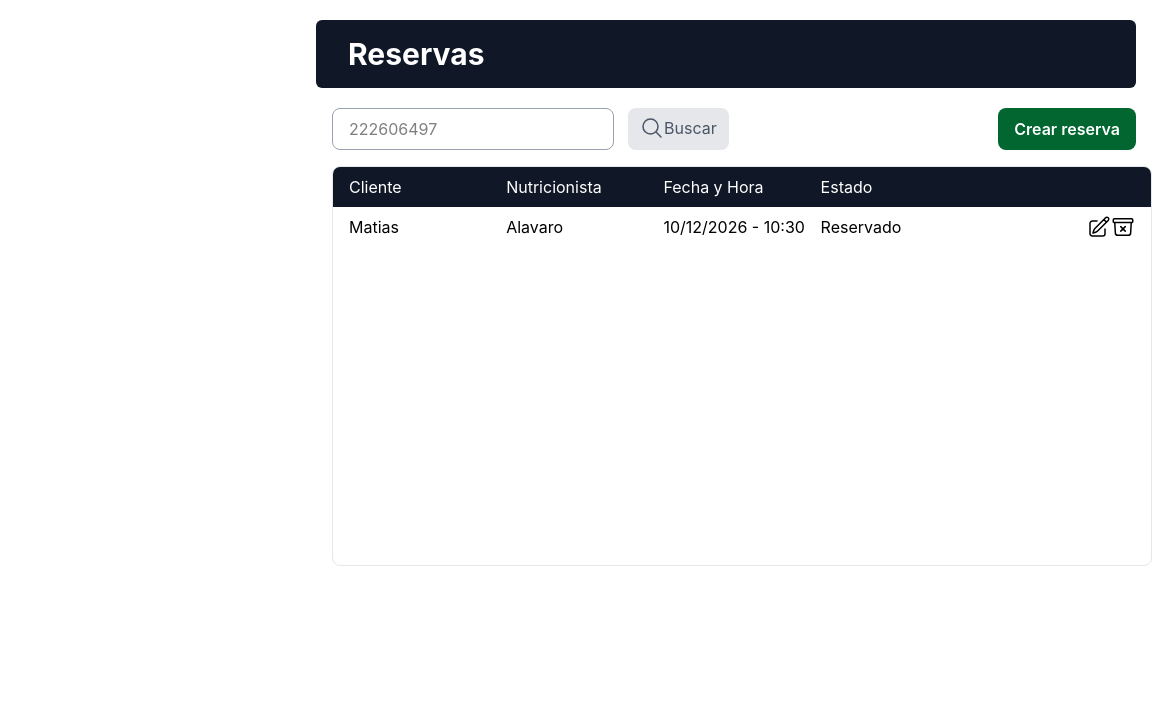
it: SecretarioReserva › abre el modal de FormularioCrearReservaSecretario al presionar "Crear reserva"
Click the button "Crear reserva" at (1067, 129), box [998,108,1136,150]
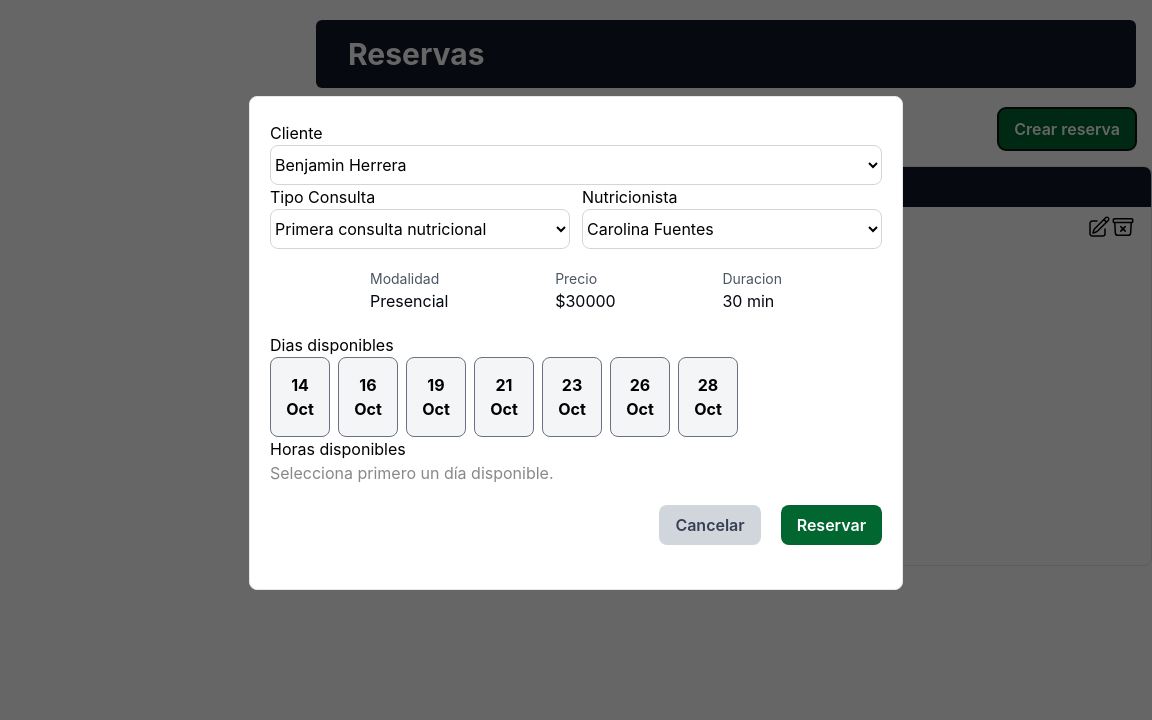
Expected: the dropdown labelled "Cliente" is shown, [270,145,882,185]
